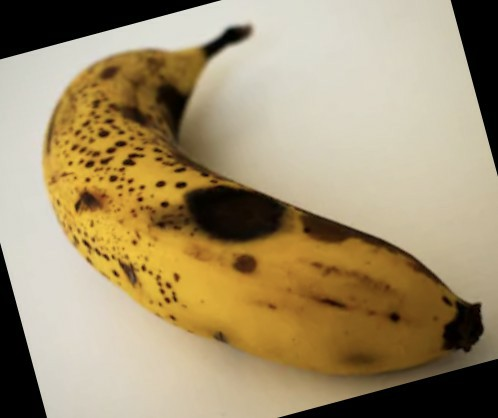rotten_banana: (47, 29, 483, 368)
